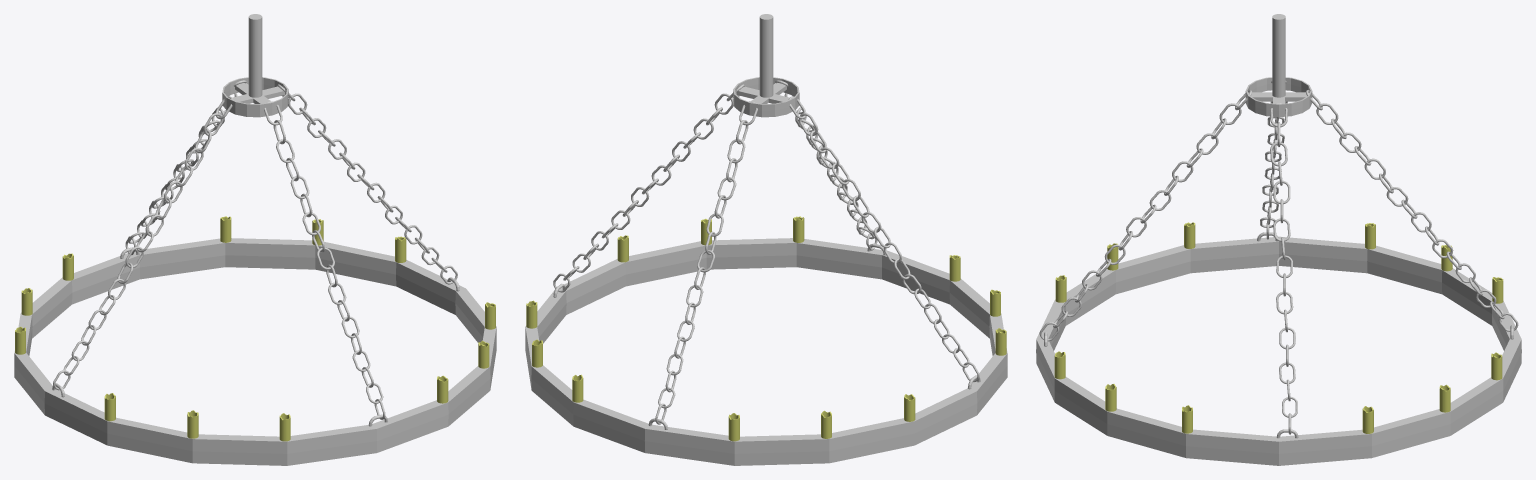
Rendered from ChandelierUV.fbx.
3 renders of one model, left to right at view 1: azimuth 30°, elevation 25°; view 2: azimuth 150°, elevation 25°; view 3: azimuth 270°, elevation 25°, orthographic.
Visible parts, largest first — view 1: Torus.004; view 2: Torus.004; view 3: Torus.004.
Part boxes in pixels (<box>): Torus.004: <box>14,14,496,465</box>; Torus.004: <box>525,14,1007,465</box>; Torus.004: <box>1036,14,1521,465</box>.
Size of the model in its own units: 205 by 162 by 205.
